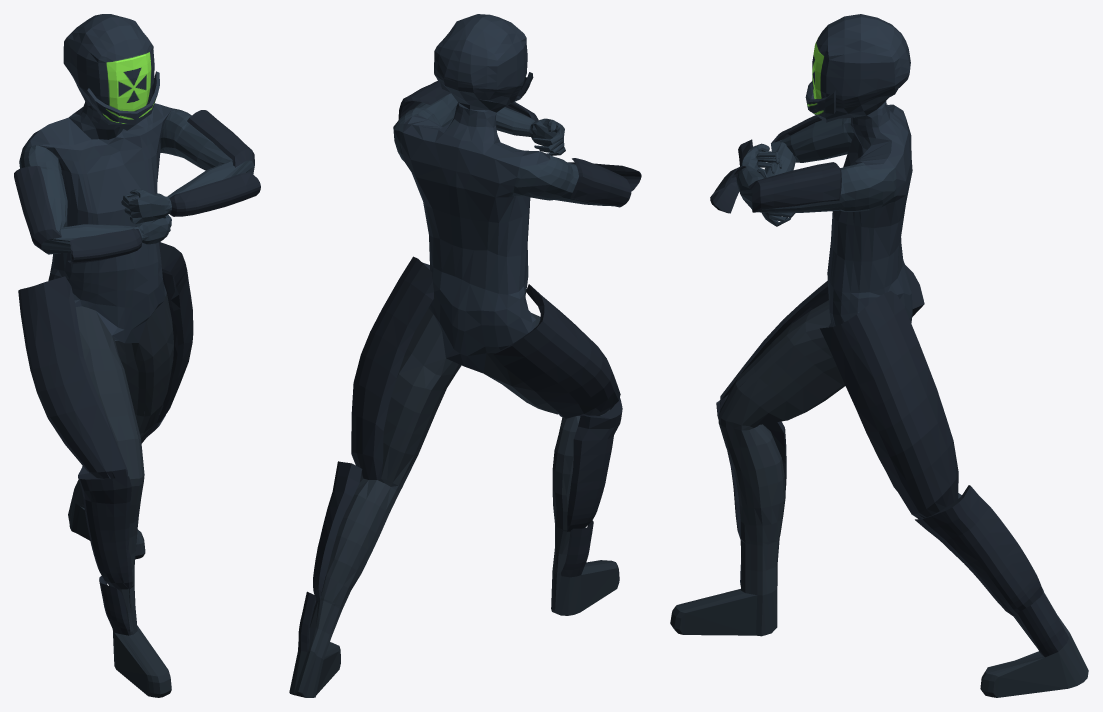
File: Bastion_WR_000013.obj
3 views of the same model, side by side, from view 1: azimuth 30°, elevation 25°; view 2: azimuth 150°, elevation 25°; view 3: azimuth 270°, elevation 25° (orthographic). The views are drawn at different scales.
Visible parts, largest first — view 1: Cube.002; view 2: Cube.002; view 3: Cube.002.
Boxes of the visible parts, x1=… form: Cube.002: x1=14, y1=14, x2=260, y2=697; Cube.002: x1=289, y1=14, x2=641, y2=697; Cube.002: x1=670, y1=14, x2=1088, y2=697.
Size of the model in its own units: 1.31 by 3.59 by 2.15.
